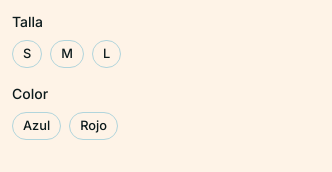
Test: VariantSelector › deshabilita las tallas que no combinan con el color seleccionado
This screenshot has width=332, height=172.
Click the button "Rojo" at (94,126), box [69, 112, 118, 140]
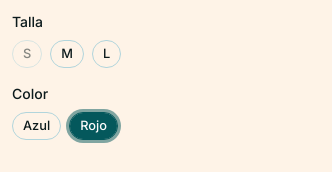
expect the button "M" is enabled: met, box [50, 40, 84, 68]
expect the button "S" is disabled: met, box [12, 40, 42, 68]
